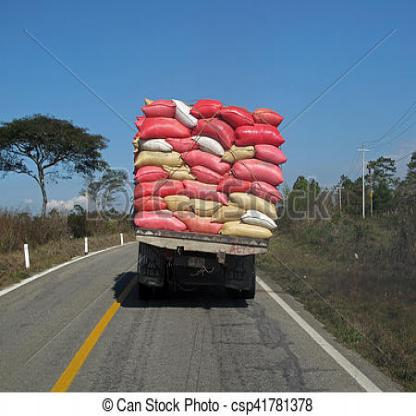overloaded-truck: (136, 86, 292, 249)
